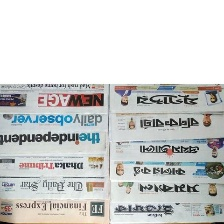news_paper: (110, 82, 224, 114), (0, 82, 110, 113), (108, 113, 223, 142), (107, 176, 224, 203), (108, 135, 224, 162), (107, 199, 224, 224), (107, 160, 223, 183), (0, 153, 111, 177), (0, 199, 109, 223), (0, 176, 111, 199), (0, 133, 109, 155), (0, 111, 109, 132)
